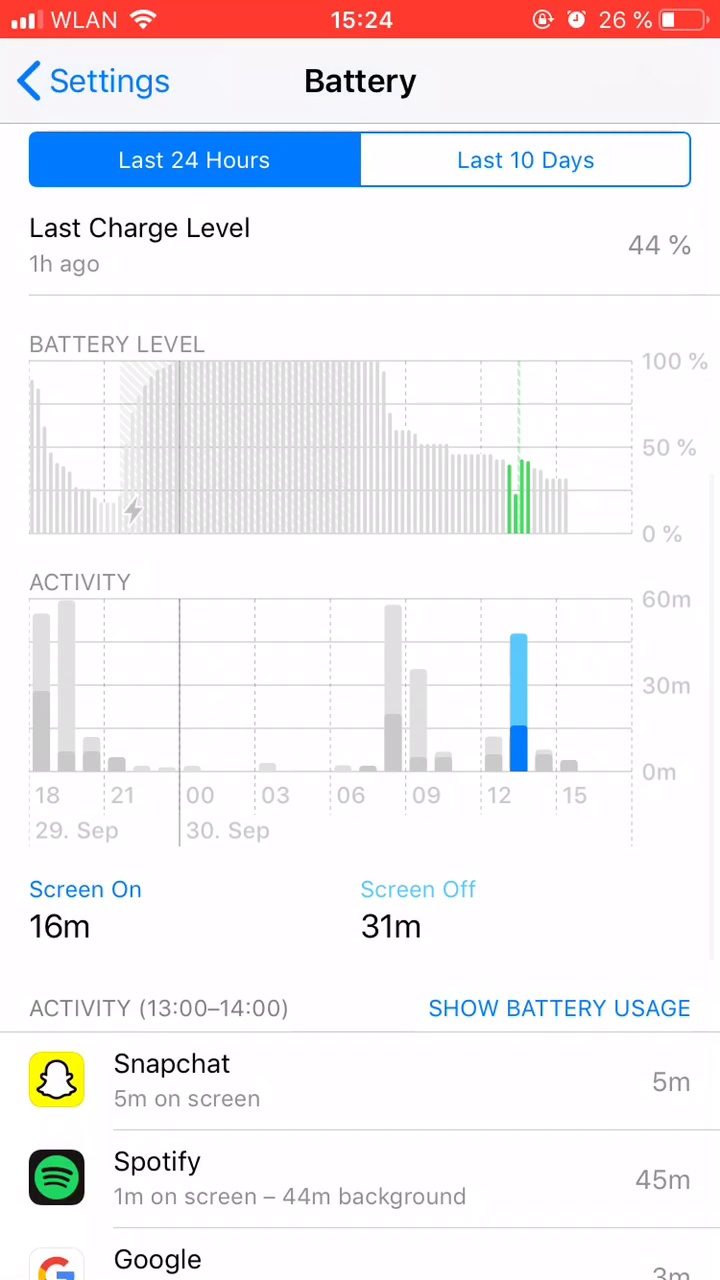activity: (26, 985, 310, 1022)
app: (17, 1045, 703, 1115), (24, 1143, 710, 1213)
